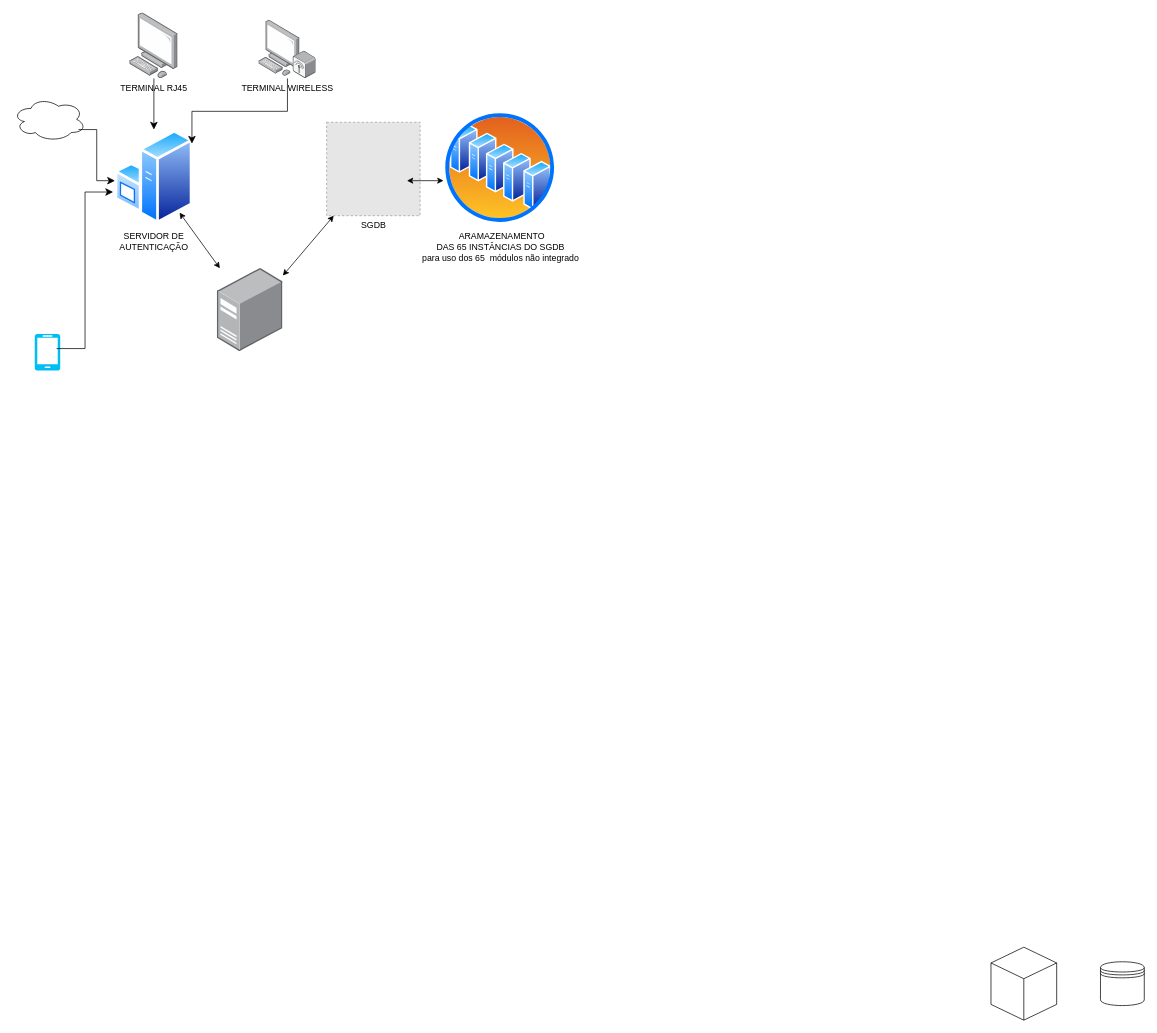
Image size: 1157x1033. Some labels were removed from this diagram. Grey dashed boxes stand in for pictures. Each missing label, with the centre of its shape:
"Cloud" belongs at (x=49, y=119).
"SERVIDOR DE APLICAÇÕES" belongs at (x=249, y=309).
